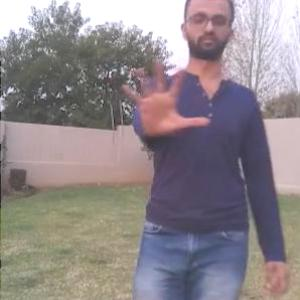follow_hand: (113, 43, 208, 140)
